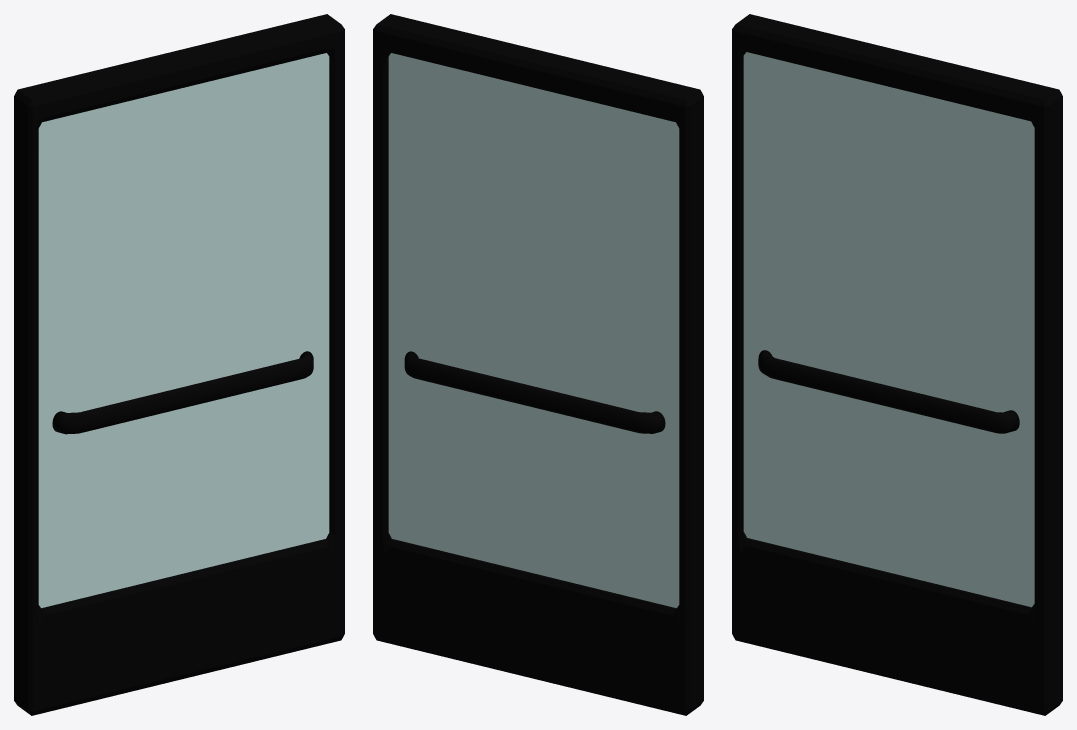
Rendered from glassDoor.fbx.
The picture shows the model from 3 angles, left to right: view 1: azimuth 30°, elevation 25°; view 2: azimuth 150°, elevation 25°; view 3: azimuth 330°, elevation 25°; orthographic projection.
Visible parts, largest first — view 1: Cube; view 2: Cube; view 3: Cube.
Boxes of the visible parts, bbox=[...] form: Cube: bbox=[14, 14, 344, 715]; Cube: bbox=[373, 14, 703, 715]; Cube: bbox=[732, 14, 1062, 715].
Size of the model in its own units: 997 by 1852 by 156.
